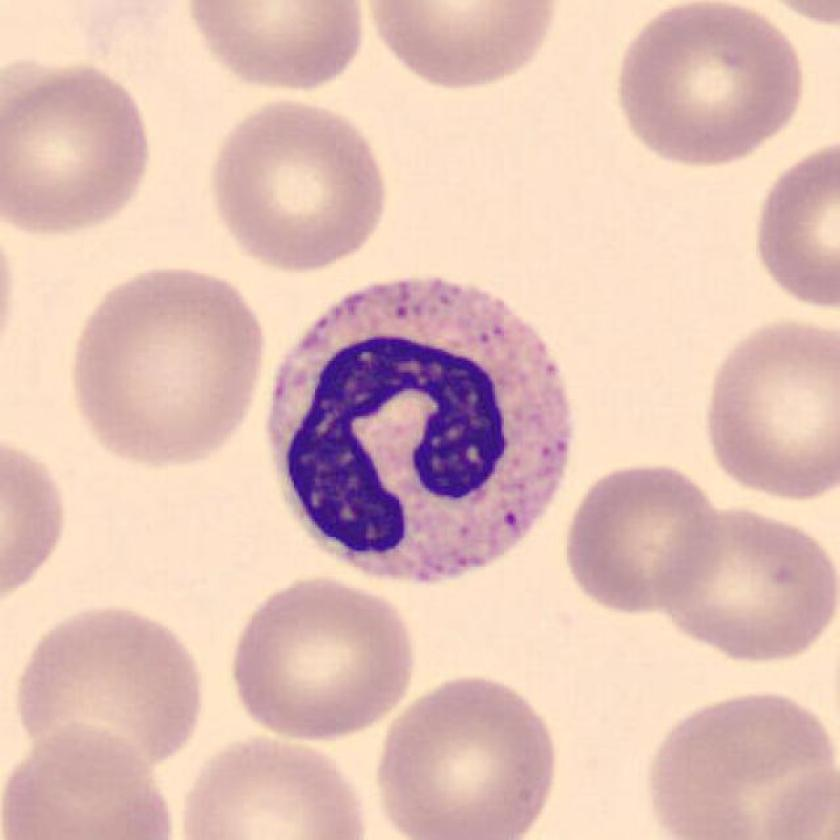neutrophil: (267, 282, 572, 582)
